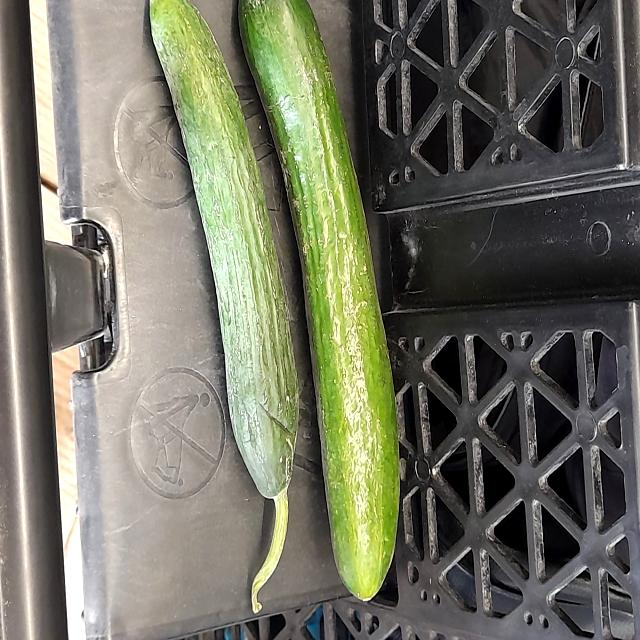cucumber: (239, 0, 406, 610), (150, 3, 307, 603)
